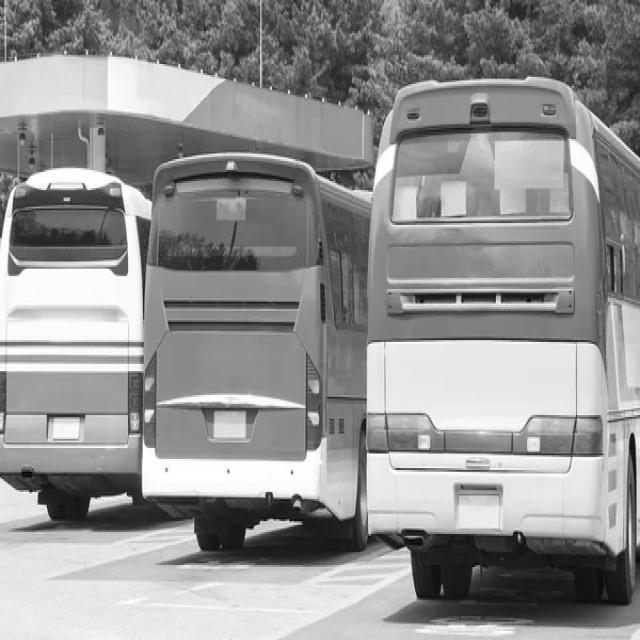Bus: (368, 79, 640, 604), (143, 154, 370, 550), (0, 166, 150, 521)
